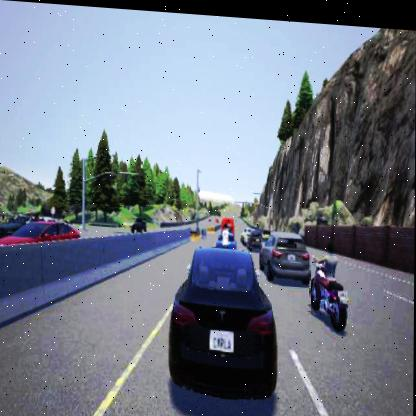bike: (220, 217, 229, 246)
motobike: (309, 238, 350, 327)
vehicle: (169, 210, 278, 397), (0, 211, 80, 249), (259, 227, 312, 280), (131, 213, 147, 231)
